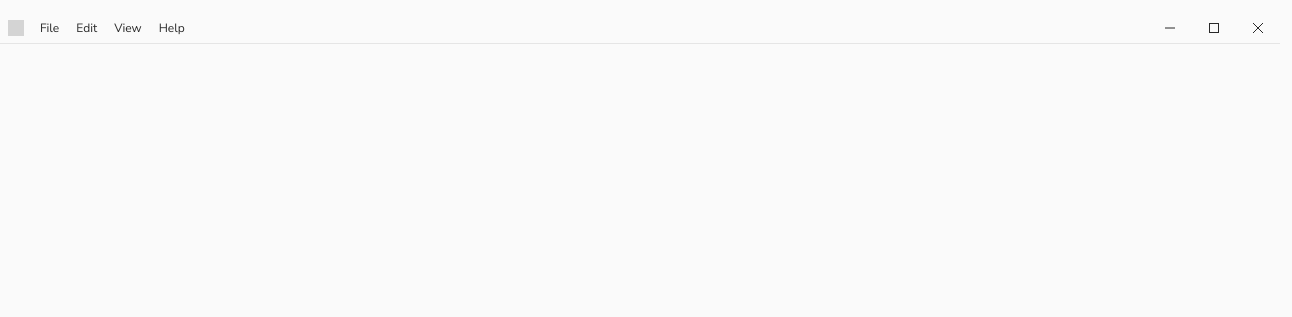
Test: <TitleBar> › displays accelerators in the dropdown using Ctrl rather than CmdOrCtrl
Step 1. Click the button "File" → (50, 28), box [32,16,67,40]
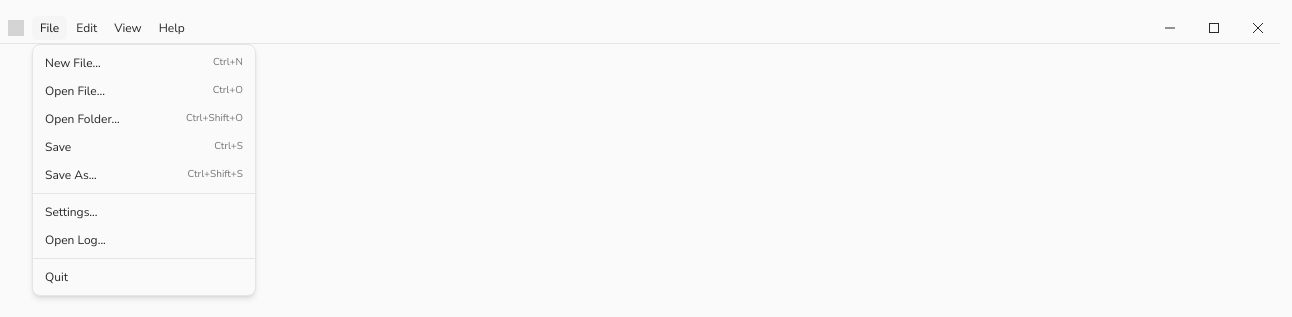
expect the text "Ctrl+N" is shown: met, box [213,56,243,70]
